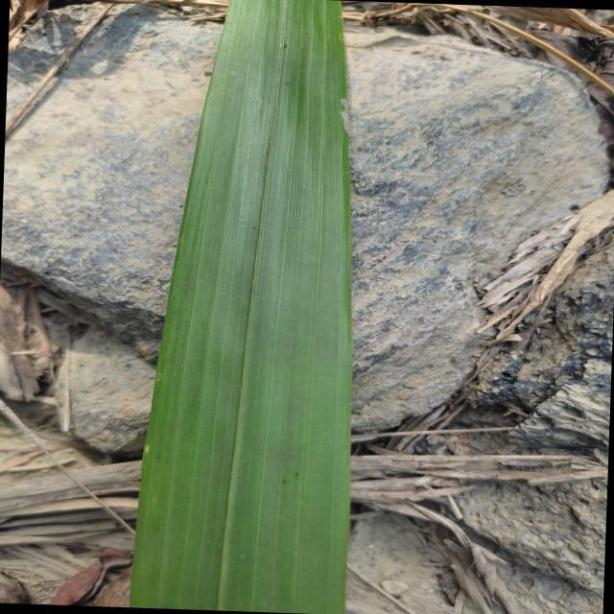Healthy: (136, 0, 355, 614)
